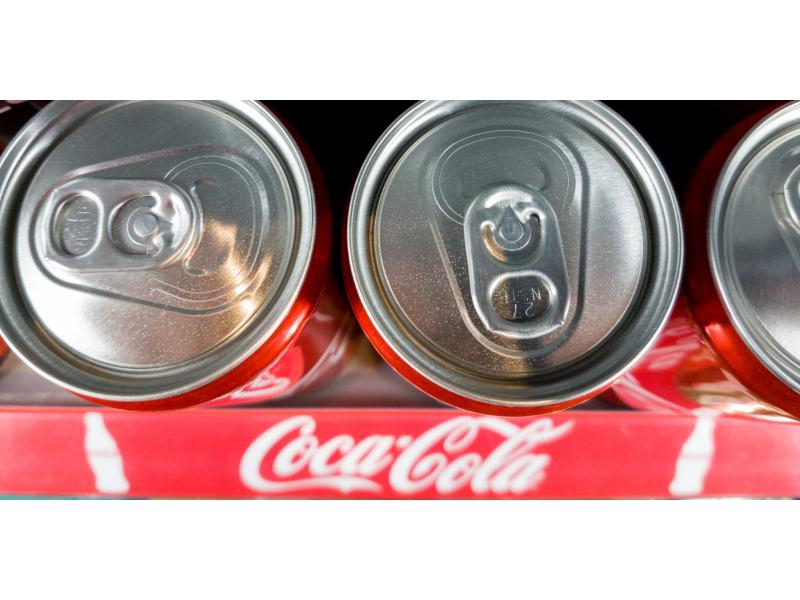can: (344, 99, 687, 409), (5, 100, 326, 403), (695, 96, 800, 401)
